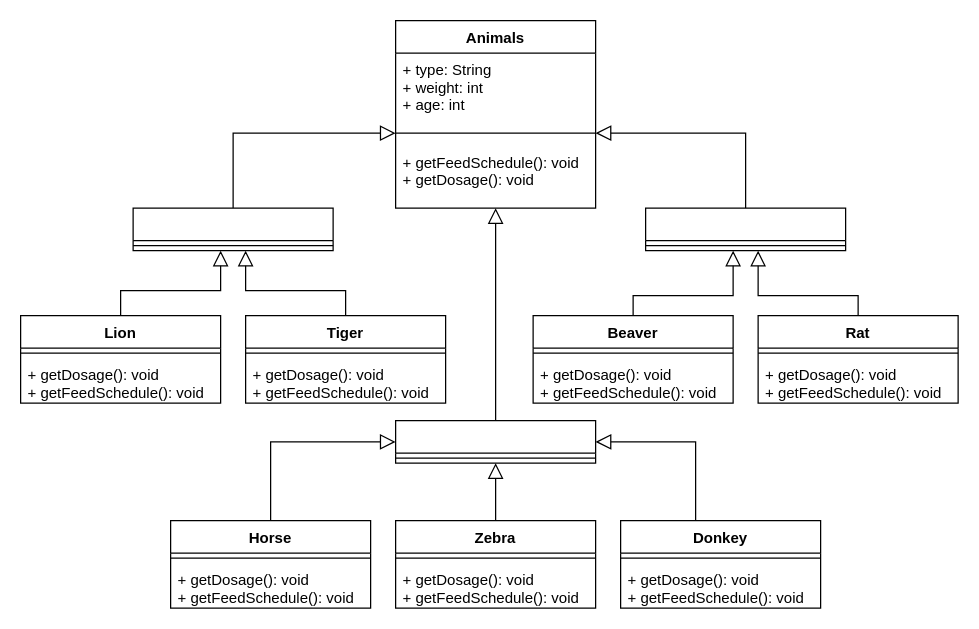
Some shapes in this 979 by 629 pixel diagram are drawn without their labels. Here are the shapes that lost their labels. From the top down, the centre of each, then its label:
At point (232, 229): "Felines".
At point (745, 229): "Rodents".
At point (495, 441): "Stable Animals".
